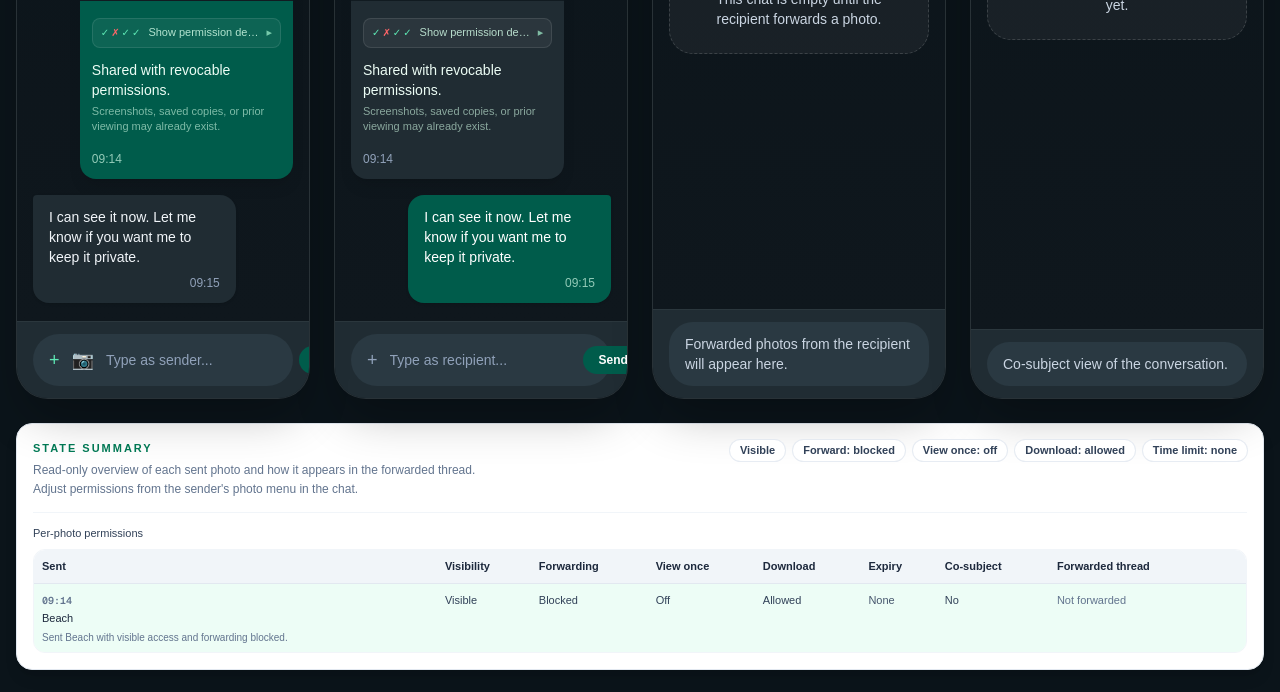
Test: PhotoRevocationDemo › closes the pre-send composer without sending and returns to the thread
(page scrolled)
Click the button named "Open photo actions" at (54,360), box [49,346,60,374]
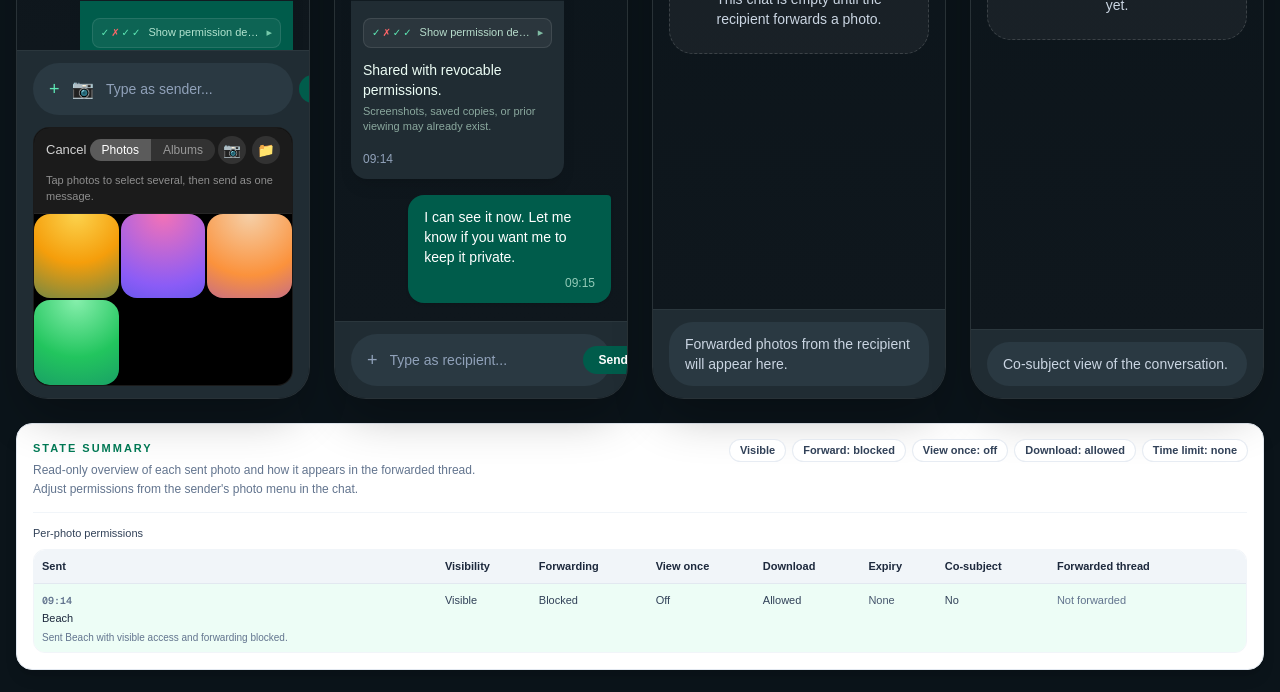
Expected: the element "Cancel" is shown, [33,127,293,386]
Expected: the button "Sample photo Beach" below "Albums" is shown
Click the button "Sample photo Beach" below "Albums" at (76,256), box [34,214,119,298]
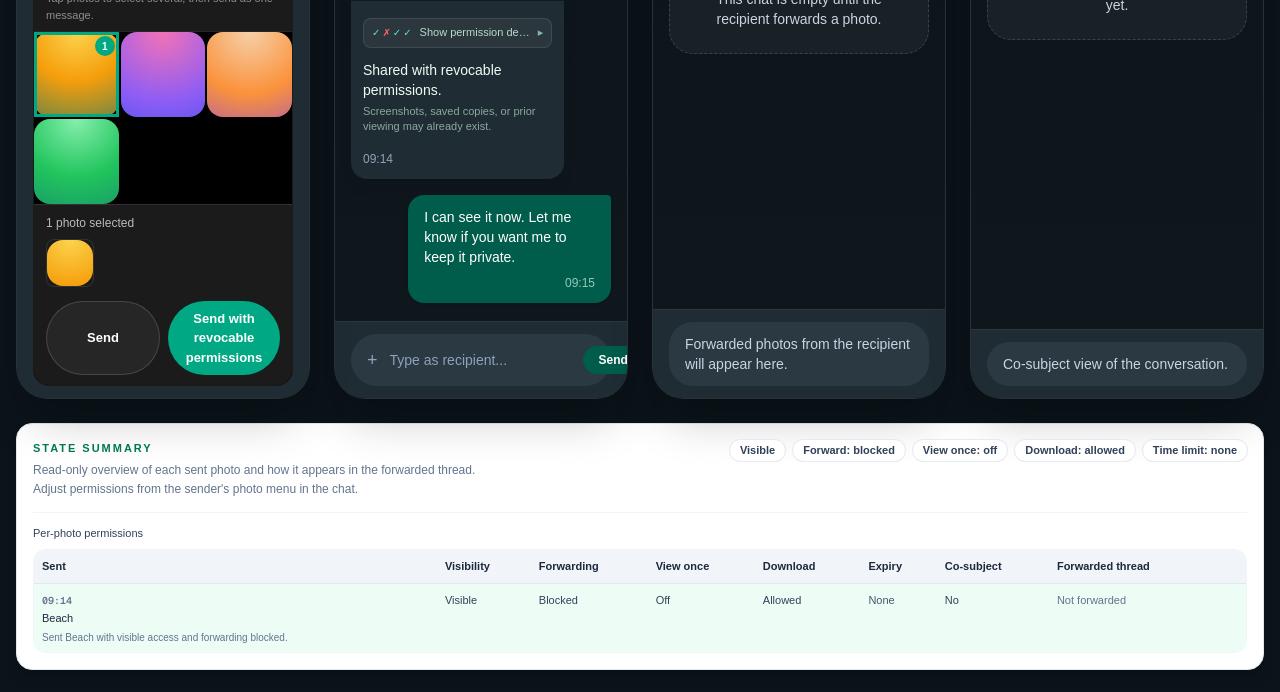
Click the button "Send with revocable permissions" at (224,338), box [168,300,280,375]
(page scrolled)
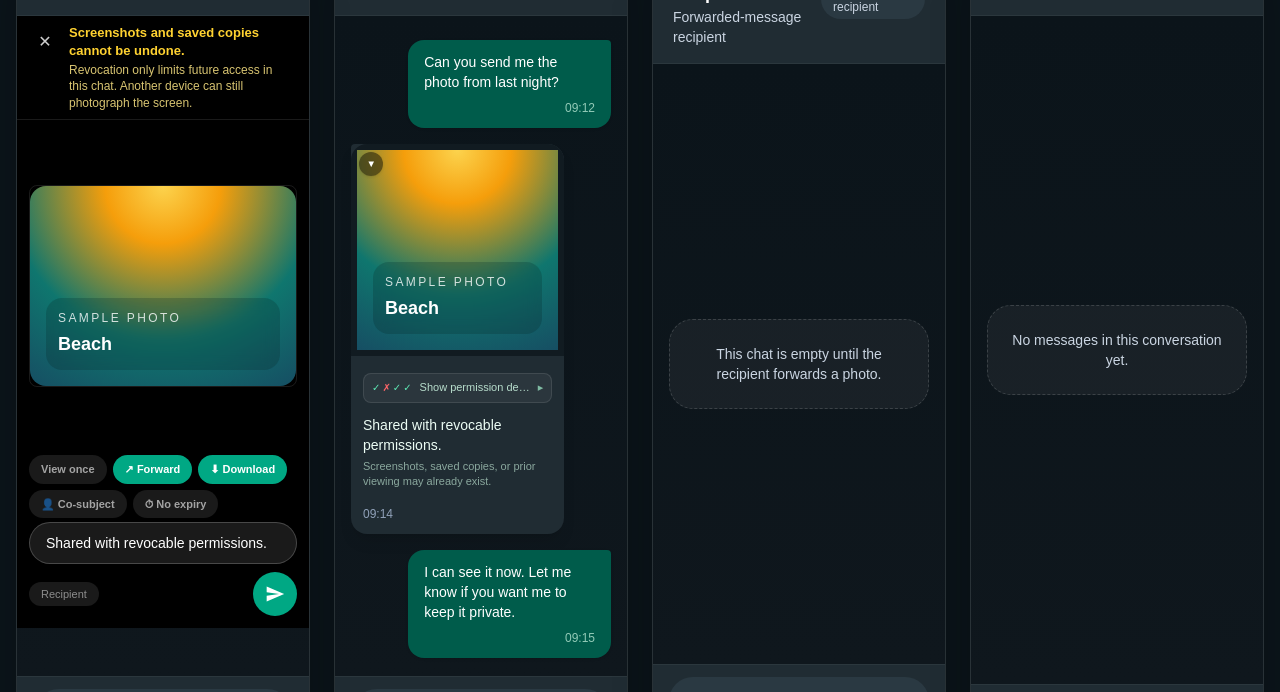
Expected: the message is shown, [69,24,297,111]
Click the button named "Close" at (45,42), box [29,26,61,58]
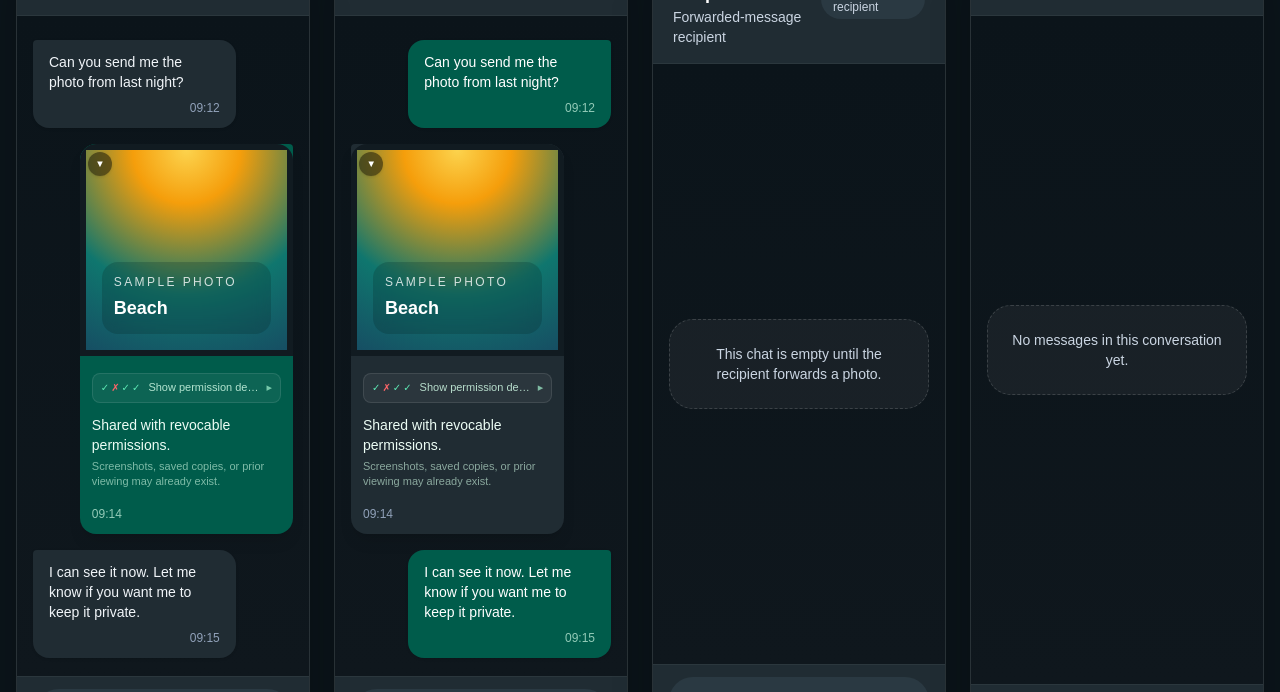
Expected: the message is gone
Expected: the 1st text "Shared with revocable permissions." is shown, [92,417,230,453]
